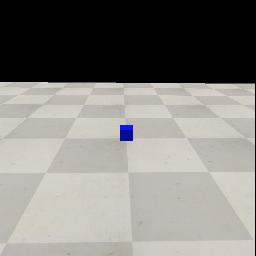box: (120, 125, 133, 141)
